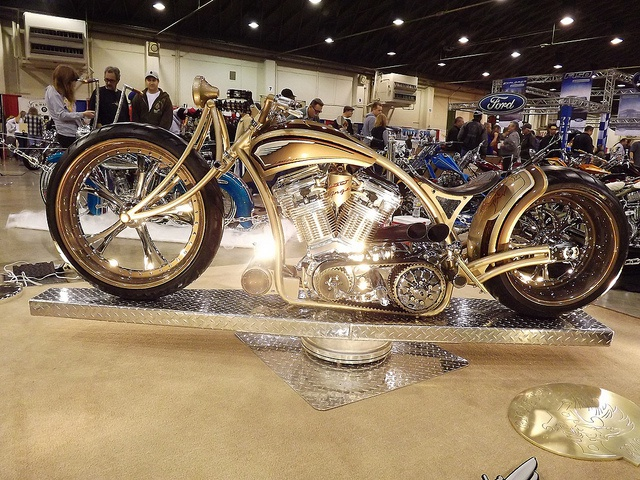non-vehicle: (32, 83, 630, 318), (526, 132, 640, 179)
